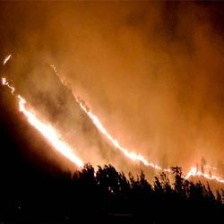fire: (12, 79, 224, 185)
smoke: (59, 16, 202, 67)
